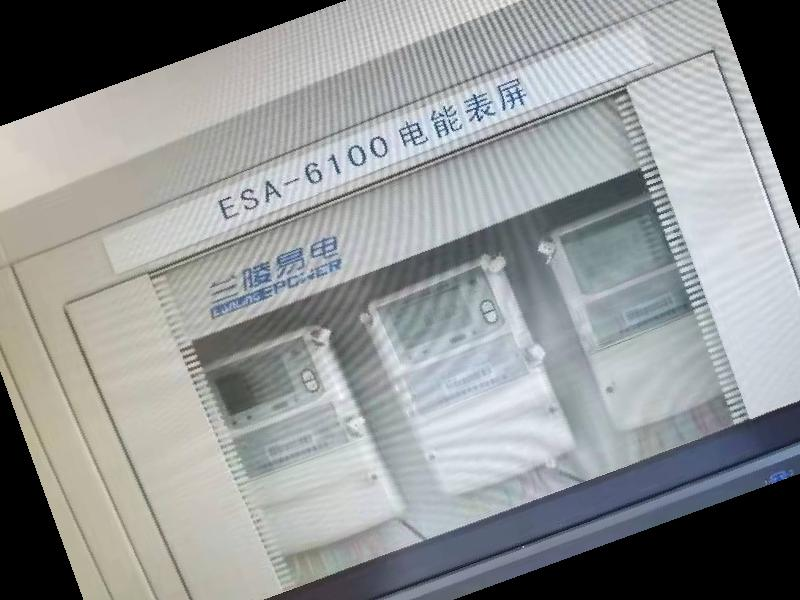digital: (361, 257, 574, 498), (200, 328, 399, 555), (546, 194, 722, 431)
